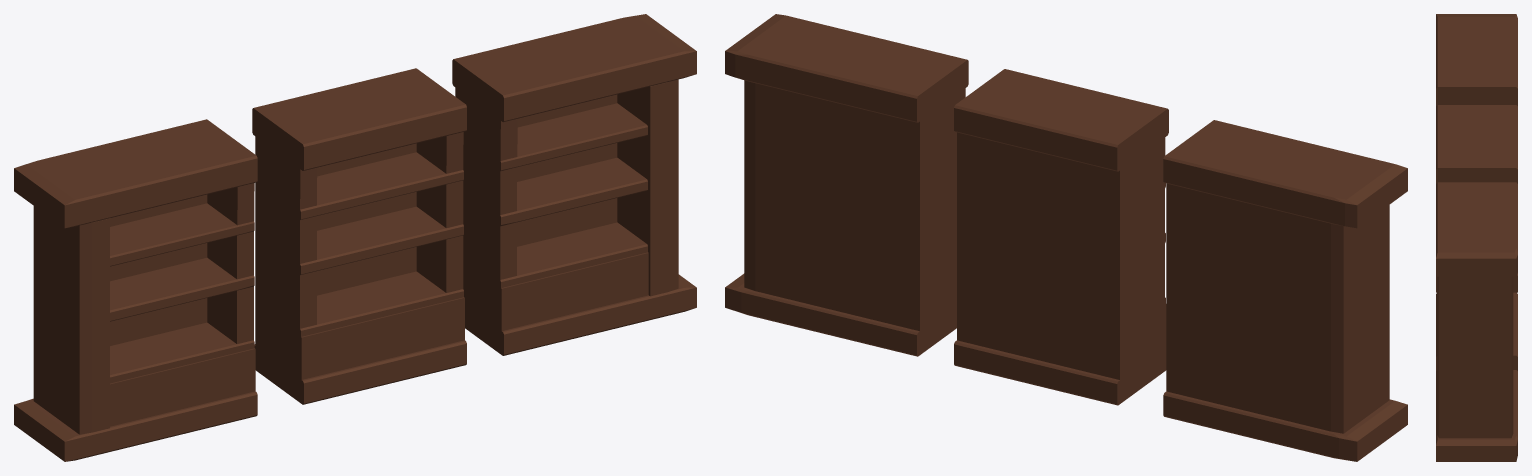
The model's file is shelf texture.fbx.
The picture shows the model from 3 angles, left to right: view 1: azimuth 30°, elevation 25°; view 2: azimuth 150°, elevation 25°; view 3: azimuth 270°, elevation 25°; orthographic projection. The views are drawn at different scales.
Parts seen in each view (by area): view 1: pCube11, pCube7, pCube10; view 2: pCube11, pCube7, pCube10; view 3: pCube7, pCube11, pCube10.
Boxes of the visible parts, <box> form: pCube11: <box>14,119,257,461</box>; pCube7: <box>452,14,696,355</box>; pCube10: <box>252,68,466,404</box>; pCube11: <box>1163,120,1407,461</box>; pCube7: <box>725,14,968,356</box>; pCube10: <box>954,69,1168,405</box>; pCube7: <box>1436,182,1517,461</box>; pCube11: <box>1436,14,1517,292</box>; pCube10: <box>1436,105,1517,370</box>.
Bounding box in the file's own units: 54.65 × 21.53 × 7.74.
